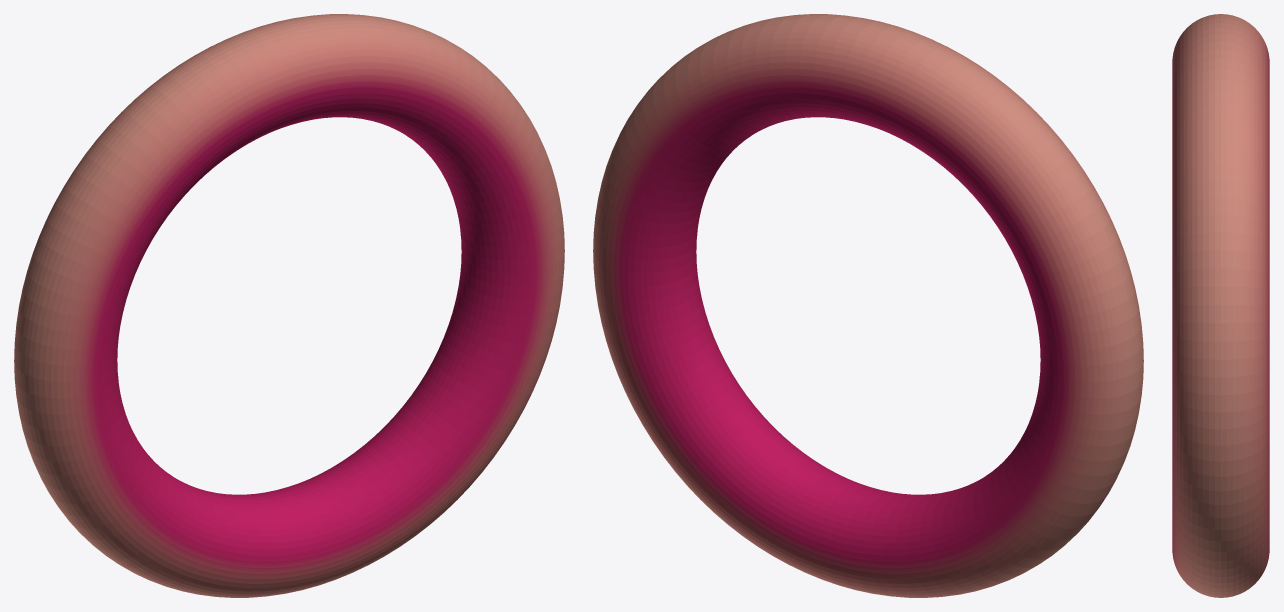
3 views of the same model, side by side, from view 1: azimuth 30°, elevation 25°; view 2: azimuth 150°, elevation 25°; view 3: azimuth 270°, elevation 25° (orthographic). The views are drawn at different scales.
Visible parts, largest first — view 1: world; view 2: world; view 3: world.
Boxes of the visible parts, bbox=[...] form: world: bbox=[14, 14, 564, 597]; world: bbox=[593, 14, 1143, 597]; world: bbox=[1172, 14, 1269, 597].
Bounding box in the file's own units: 36 × 36 × 5.99.
